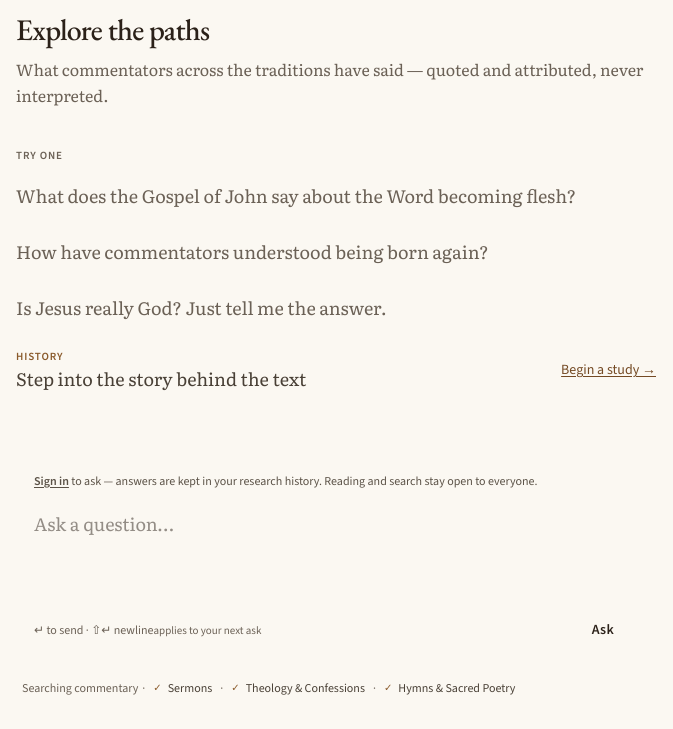
Test: Q1 — the 401 offers a way out, not just a way to re-fail › the failure state carries a sign-in link beside "Ask again"
In the text box with placeholder "Ask a question…": [336, 552] box [28, 507, 644, 597], type "What is grace?"
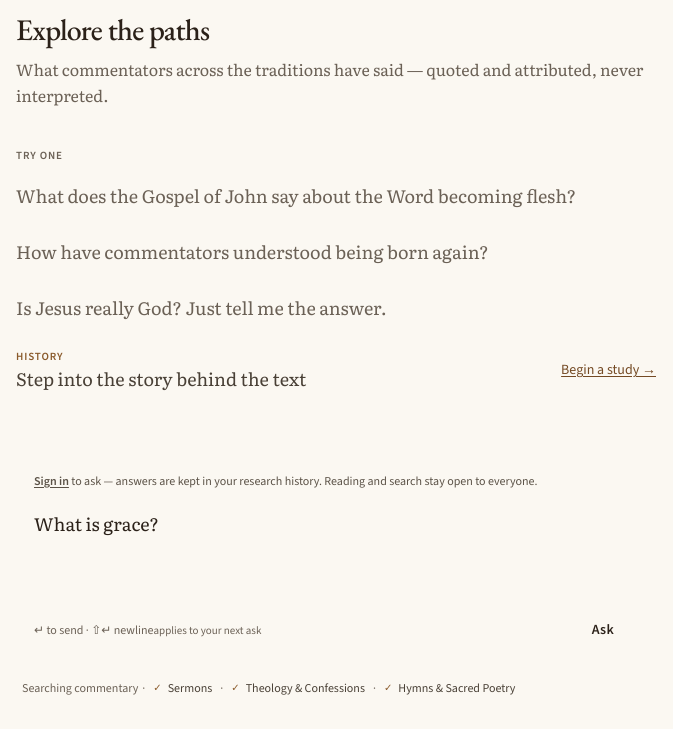
Submit the form with placeholder "Ask a question", box [16, 460, 656, 712]
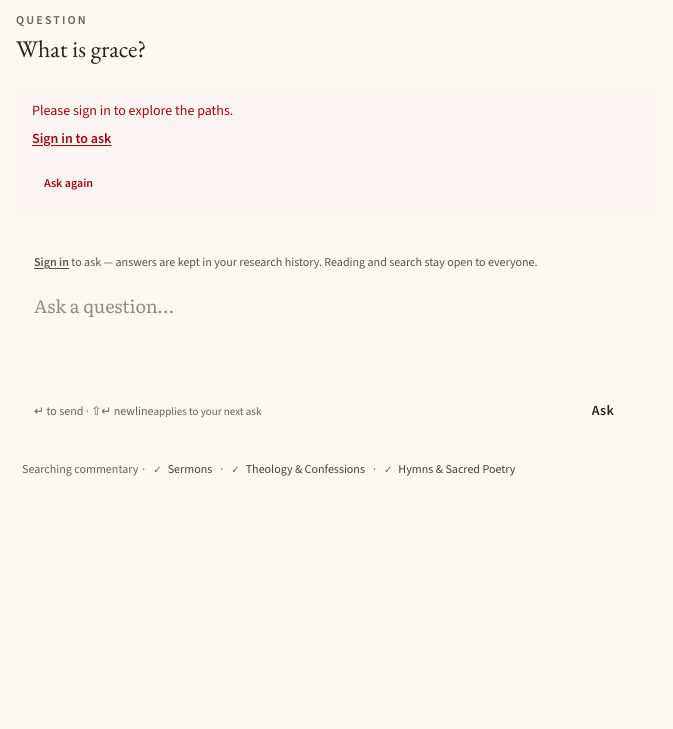
Expected: the message "Please sign in to explore the paths. Sign in to ask Ask again" is shown, [16, 89, 656, 217]
Expected: the link "Sign in to ask" is shown, [32, 129, 111, 148]
Expected: the button "Ask again" is shown, [32, 161, 105, 205]
